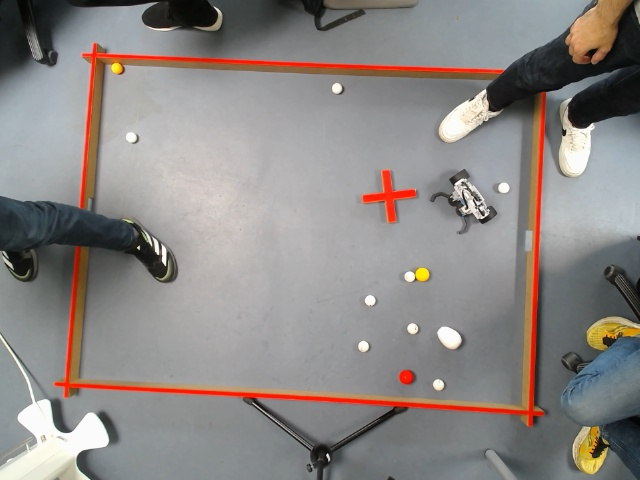big_goal: (79, 195, 93, 210)
cross: (361, 168, 416, 222)
egg: (437, 326, 462, 348)
orange: (110, 62, 123, 74)
robot: (430, 168, 497, 233)
small_goal: (524, 228, 538, 252)
wall: (67, 378, 528, 417), (94, 51, 502, 80), (520, 92, 547, 411), (78, 51, 104, 210), (64, 245, 89, 384)
white: (497, 180, 510, 192), (402, 270, 415, 282), (406, 321, 418, 333), (432, 378, 444, 390), (331, 81, 342, 93), (364, 294, 375, 306), (126, 132, 136, 144), (357, 341, 368, 351)
